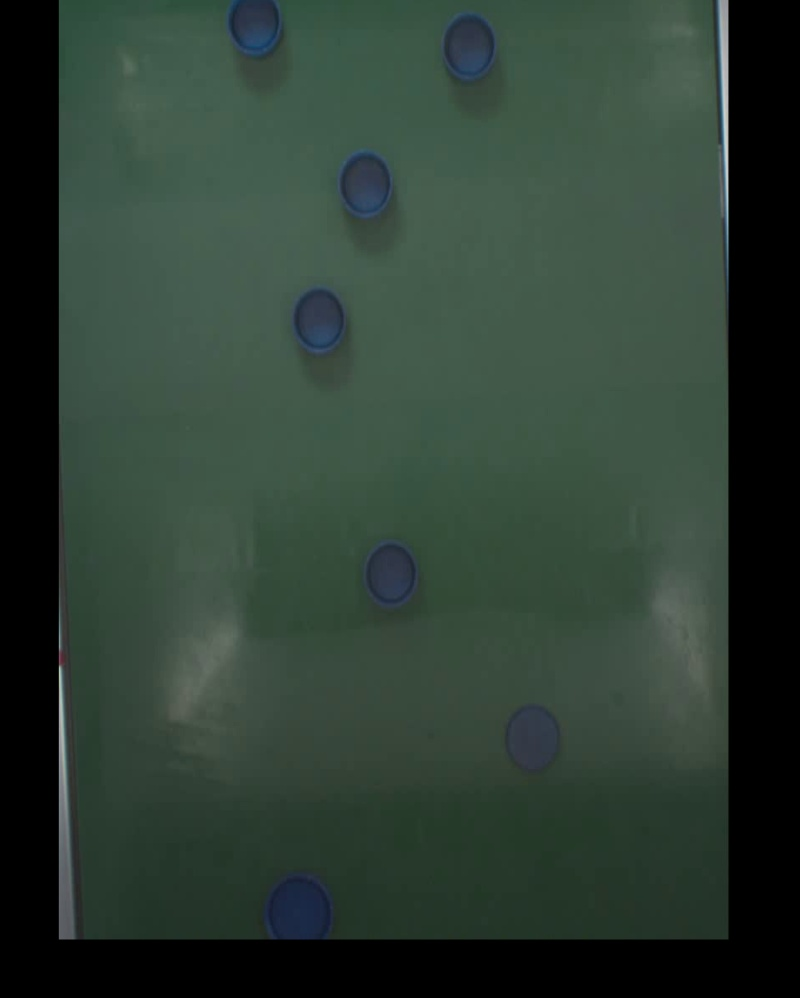Dark Blue: (442, 11, 496, 82), (364, 541, 418, 610), (292, 287, 345, 356), (505, 705, 559, 772), (268, 876, 327, 936), (340, 154, 394, 217), (226, 0, 282, 57)
